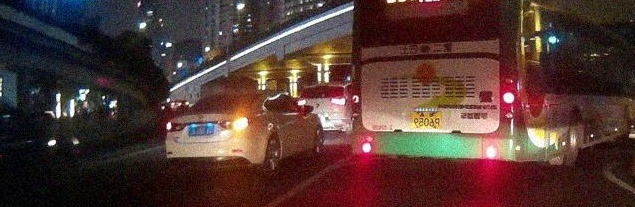L_light: (165, 121, 186, 131)
R_light: (220, 117, 255, 129)
T_light: (218, 96, 230, 98)
night-right: (165, 91, 264, 180)
